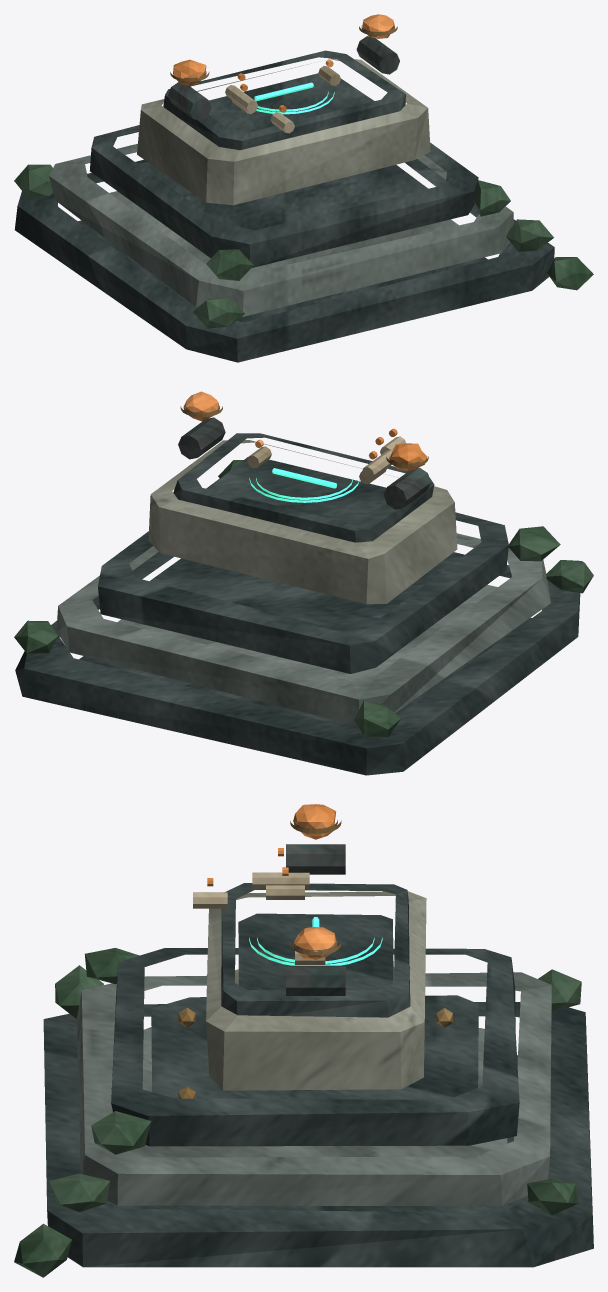
File: 0473_altar_23.glb
The picture shows the model from 3 angles, top to bottom: view 1: azimuth 30°, elevation 25°; view 2: azimuth 150°, elevation 25°; view 3: azimuth 270°, elevation 25°; orthographic projection. The views are drawn at different scales.
Parts seen in each view (by area): view 1: stone_dark, stone, stone_light, moss, iron, amber, bone, glow; view 2: stone_dark, stone, stone_light, moss, iron, amber, bone, glow; view 3: stone_dark, stone, stone_light, moss, iron, bone, amber, brass, glow.
Part boxes in pixels (box(x1,y1,x2,y2)): stone_dark: box(14, 50, 554, 362); stone: box(49, 143, 513, 316); stone_light: box(137, 58, 430, 205); moss: box(14, 164, 593, 328); iron: box(168, 36, 399, 120); amber: box(173, 14, 394, 112); bone: box(225, 66, 340, 133); glow: box(254, 82, 334, 114); stone_dark: box(15, 433, 580, 775); stone: box(56, 533, 550, 725); stone_light: box(148, 440, 457, 604); moss: box(14, 460, 593, 737); iron: box(178, 417, 431, 509); amber: box(184, 391, 427, 470); bone: box(247, 436, 405, 484); glow: box(249, 468, 359, 502); stone_dark: box(43, 883, 593, 1267); stone: box(76, 972, 551, 1206); stone_light: box(206, 891, 426, 1090); moss: box(14, 948, 581, 1277); iron: box(286, 844, 345, 995); bone: box(193, 872, 325, 964); amber: box(207, 804, 336, 959); brass: box(178, 820, 453, 1098); glow: box(249, 917, 382, 965).
Size of the model in its own units: 2.33 by 1.28 by 2.34.
9 materials, 9 textured.
